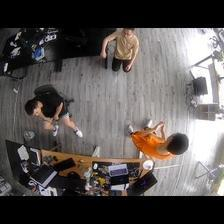fall: (100, 28, 141, 74)
normal: (24, 86, 83, 144), (126, 117, 188, 163)
